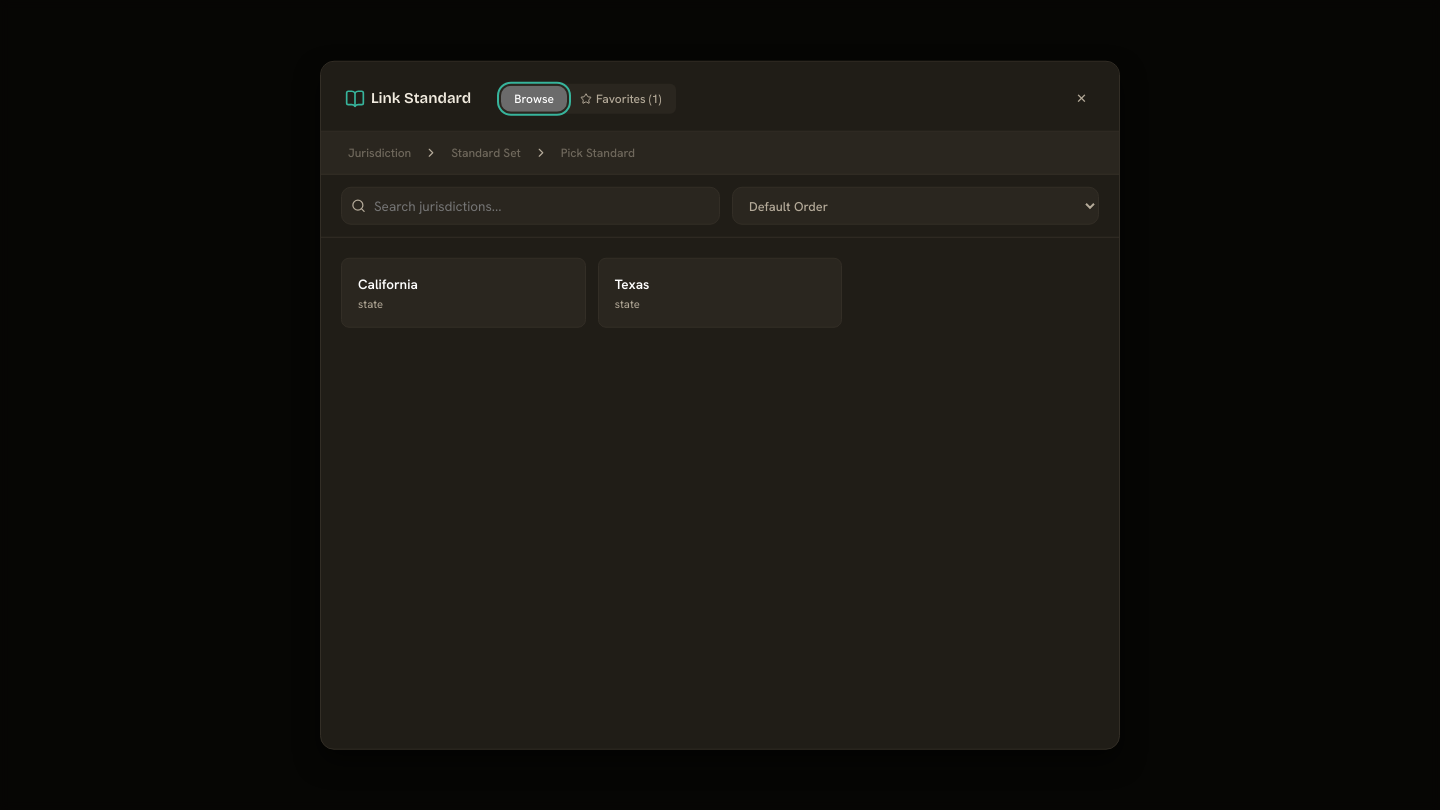
Test: StandardsPickerModal › shows a "no matches" message when favorites search has no results
Expected: the text "California" is shown, [358,275,418,293]
Click the button "Favorites (1)": [621, 98] box [567,85,674,111]
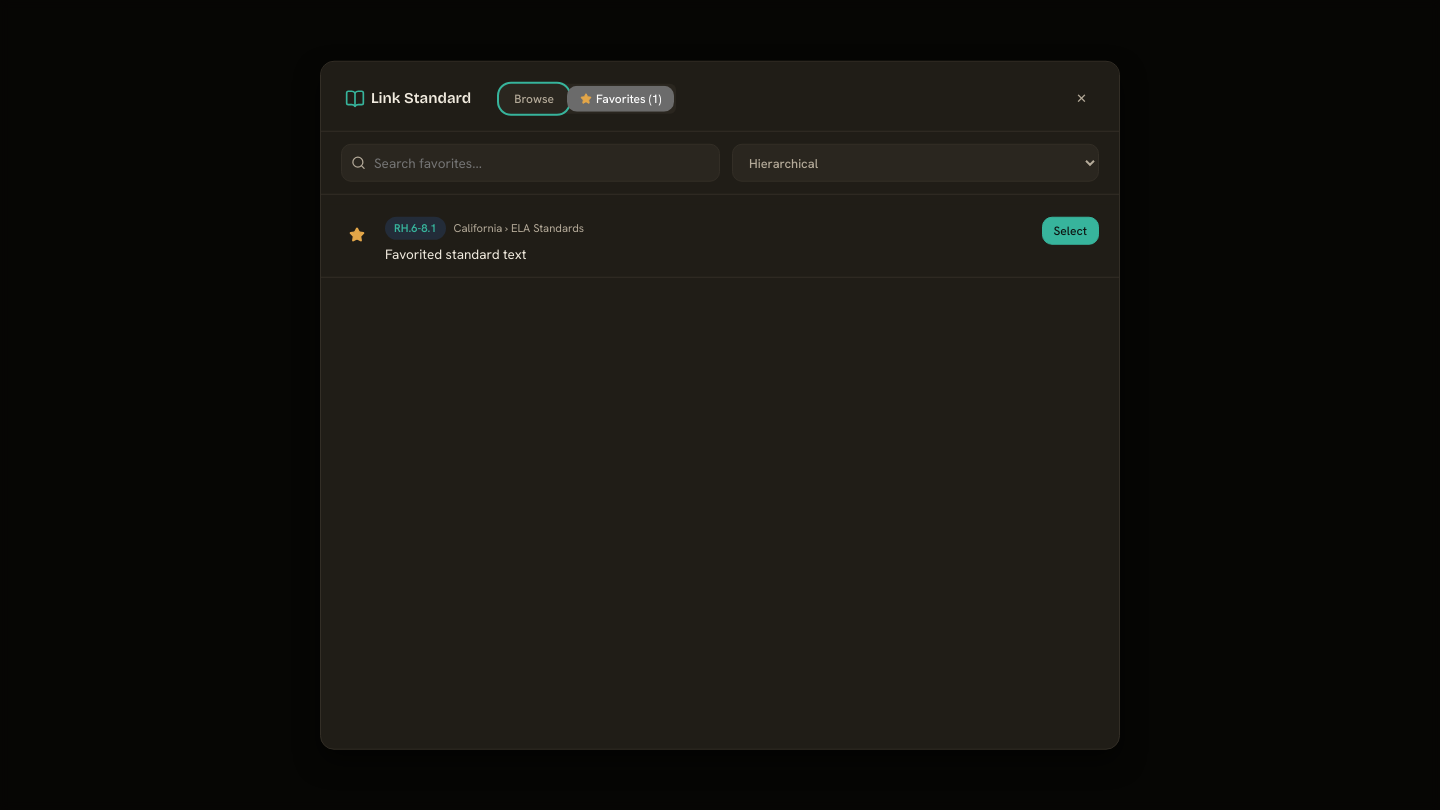
In the field with placeholder "Search favorites...": [530, 163] box [341,144,720,182], type "nomatch"
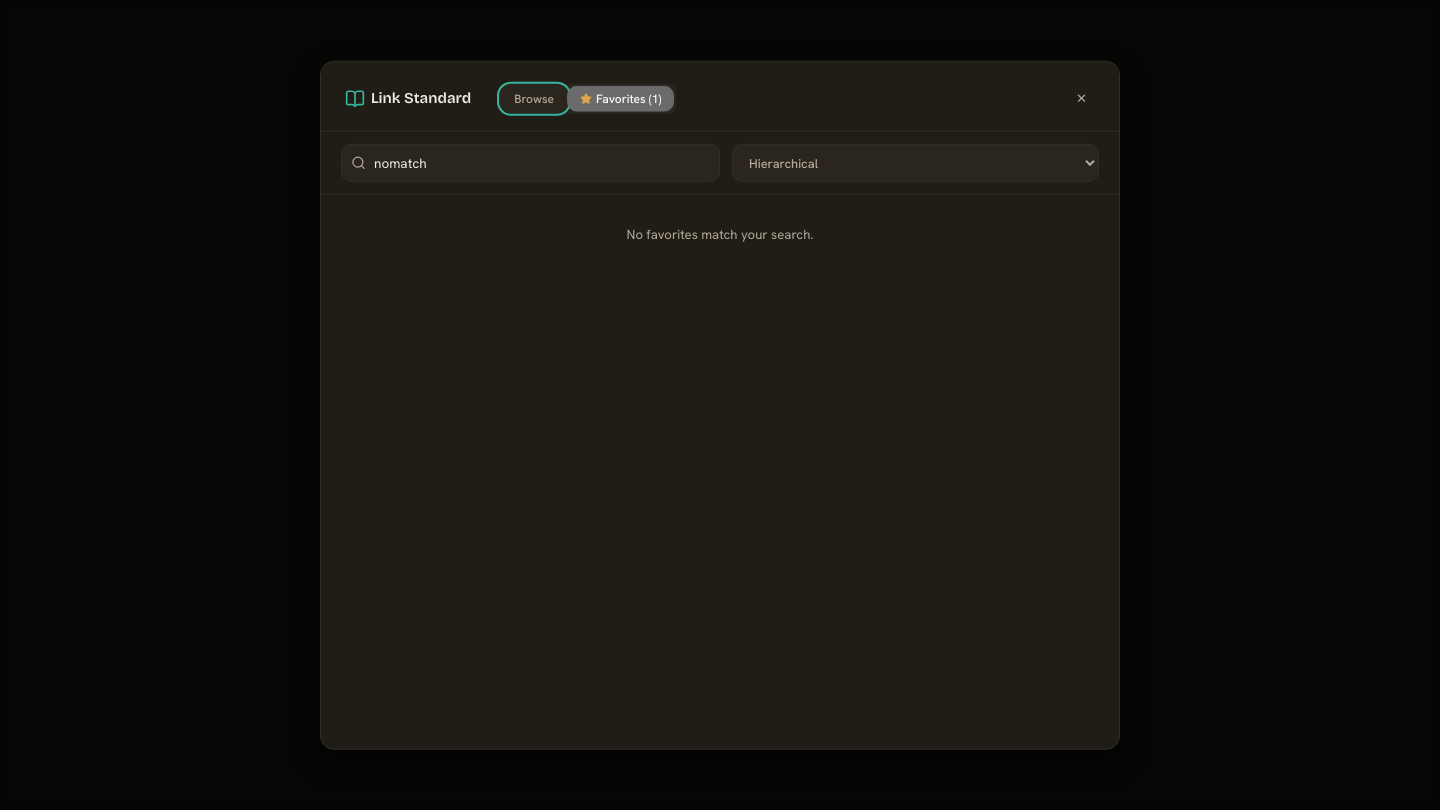
Result: the text "No favorites match your search." is shown at [626,226,813,243]
